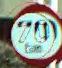Speed limit: (3, 4, 58, 63)
